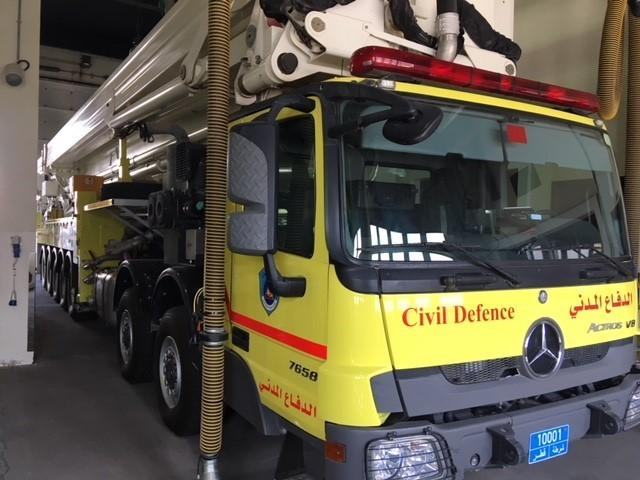firetruck_off: (37, 0, 640, 480)
